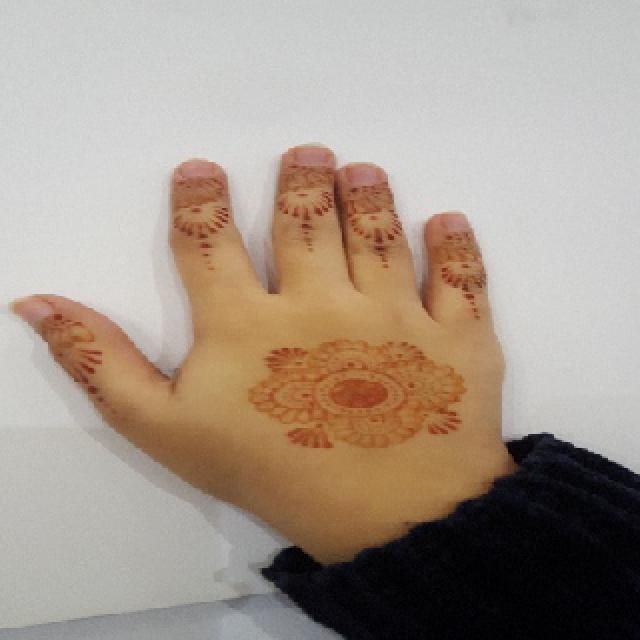Nail: (11, 295, 54, 332), (344, 162, 379, 185), (292, 146, 330, 167), (179, 161, 214, 180), (442, 212, 471, 232)
